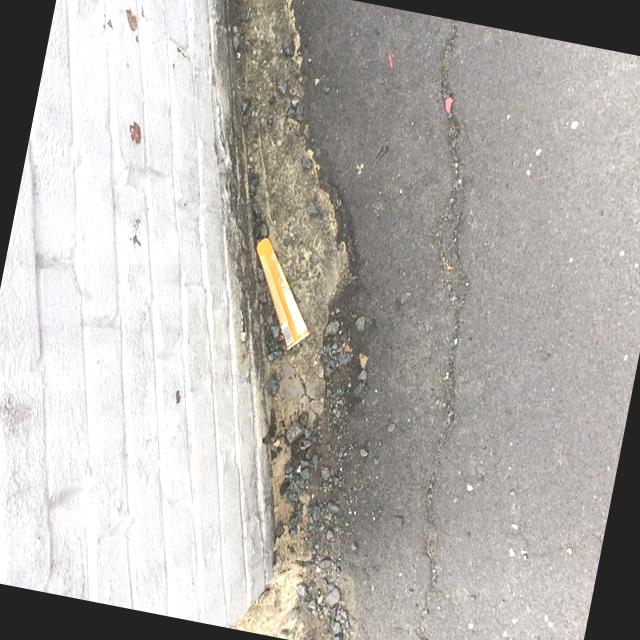Trash: (236, 232, 328, 354)
